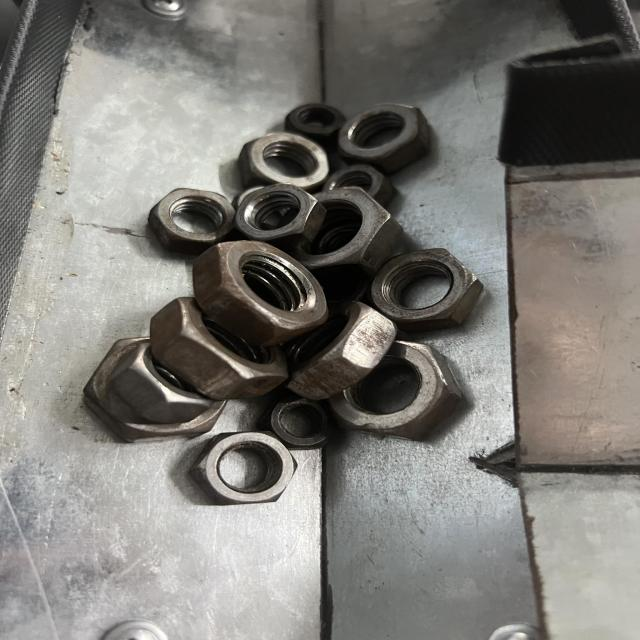nut: (194, 240, 327, 344), (370, 248, 486, 330), (189, 428, 298, 506), (153, 188, 233, 245)
